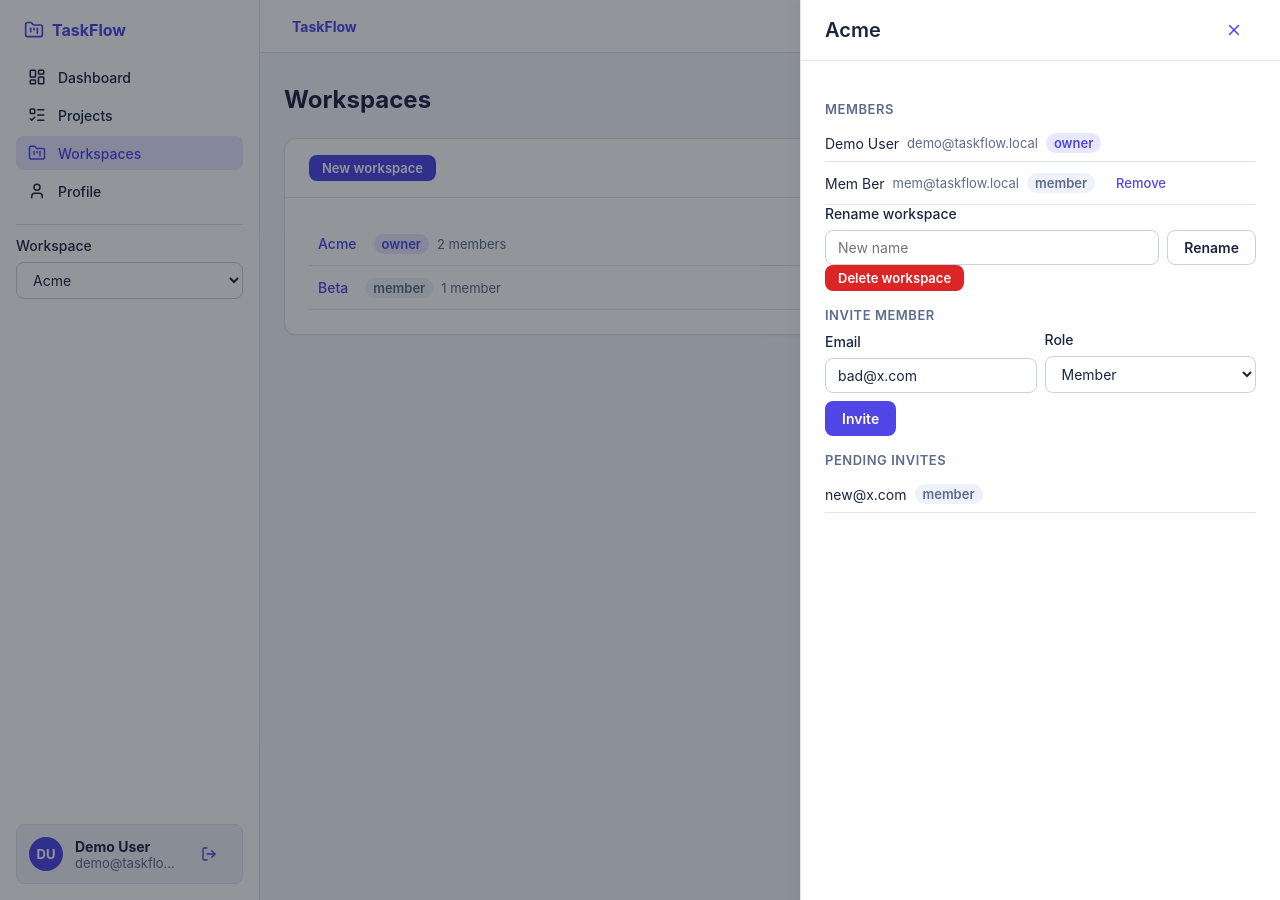
Test: workspace-pane — "Workspace mutations happen inside the drawer" (@w1) › mutation failure alerts inside the drawer and preserves the value
Earlier steps of the test are not shown.
Click the button "Invite": (861,418) [825, 401, 896, 436]
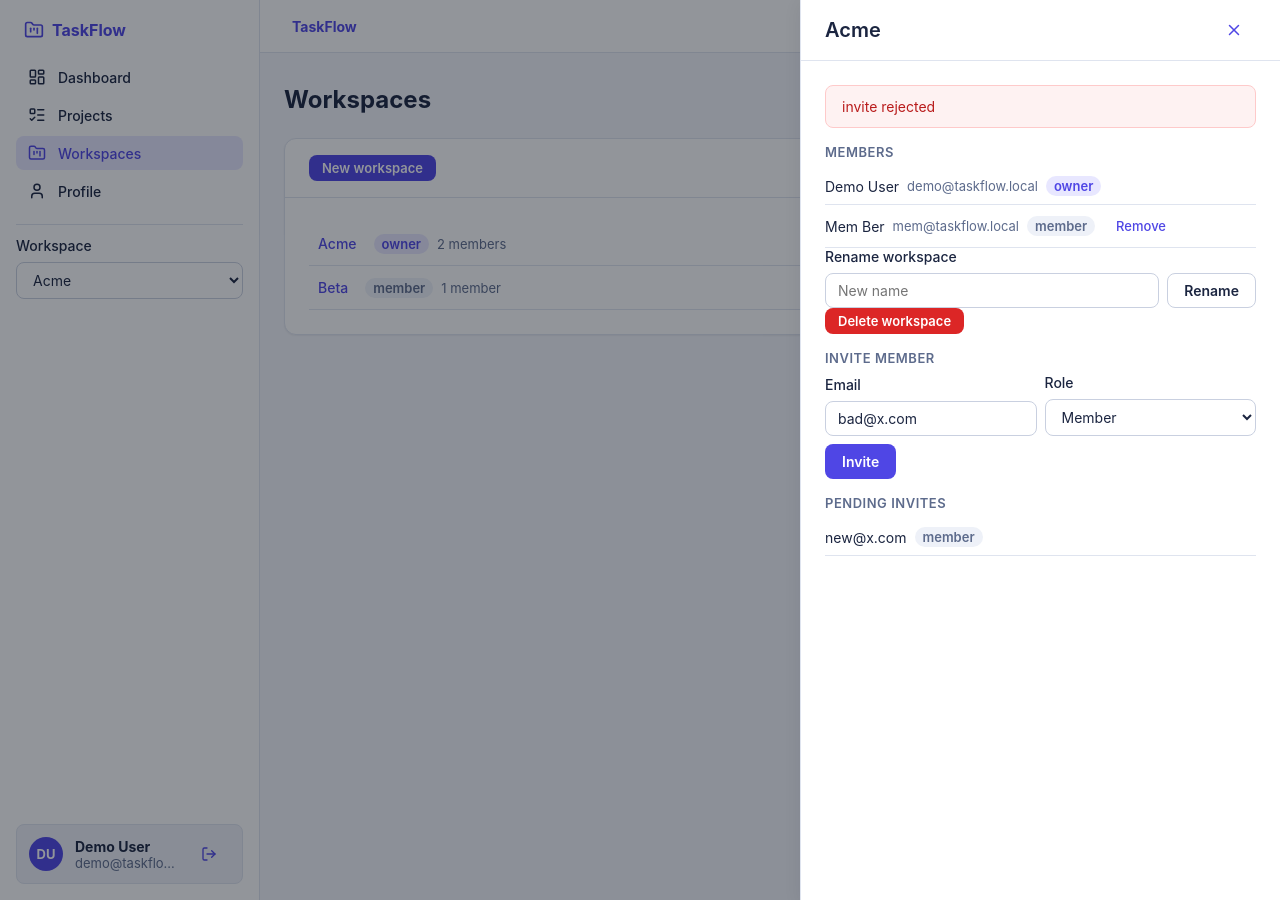
Now the message reads "invite rejected", box [842, 98, 935, 115]
